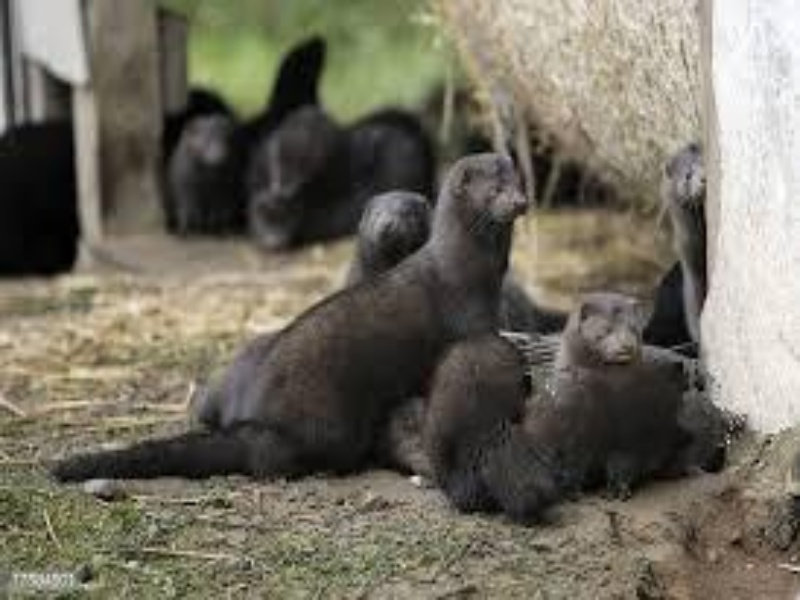minkish: (63, 149, 525, 486), (522, 292, 649, 497), (655, 137, 734, 351), (246, 23, 333, 156), (338, 185, 431, 297), (157, 115, 236, 237)
